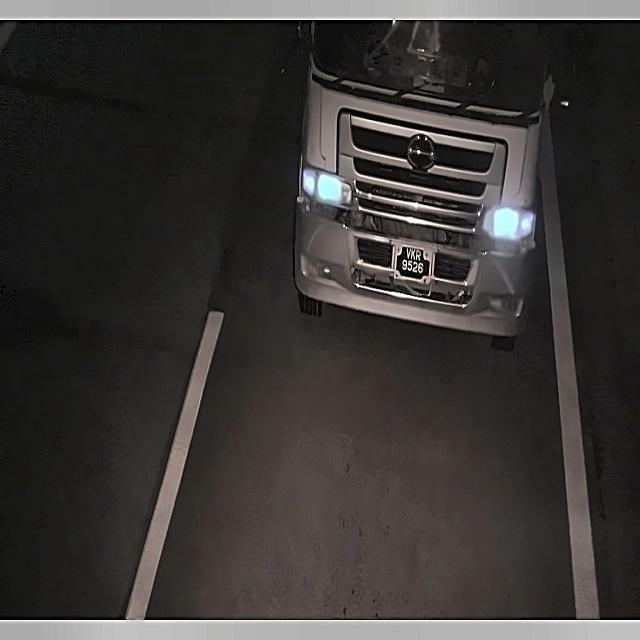car: (388, 231, 437, 292)
